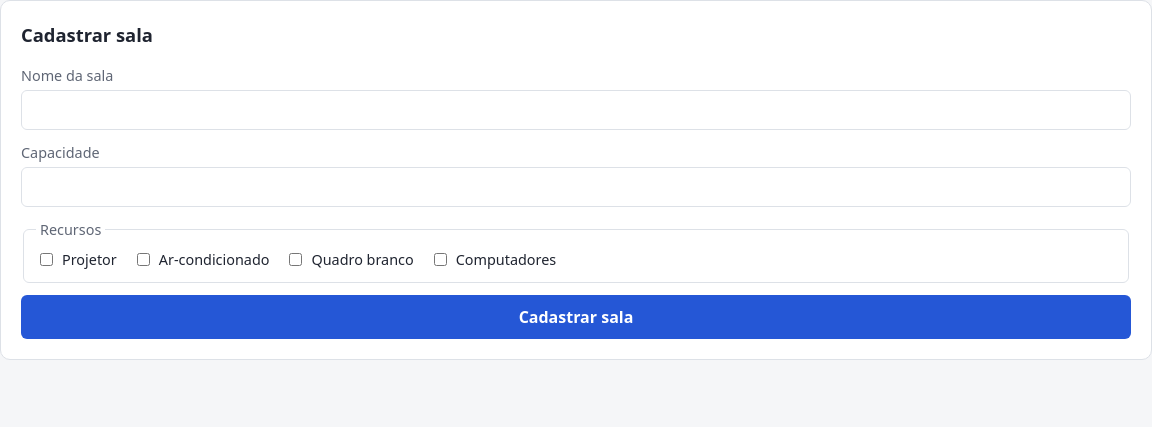
Test: RoomForm › exibe uma mensagem genérica quando ocorre um erro inesperado
The image size is (1152, 427).
Click the button "Cadastrar sala".
click(576, 317)  # box x1=21 y1=295 x2=1131 y2=339
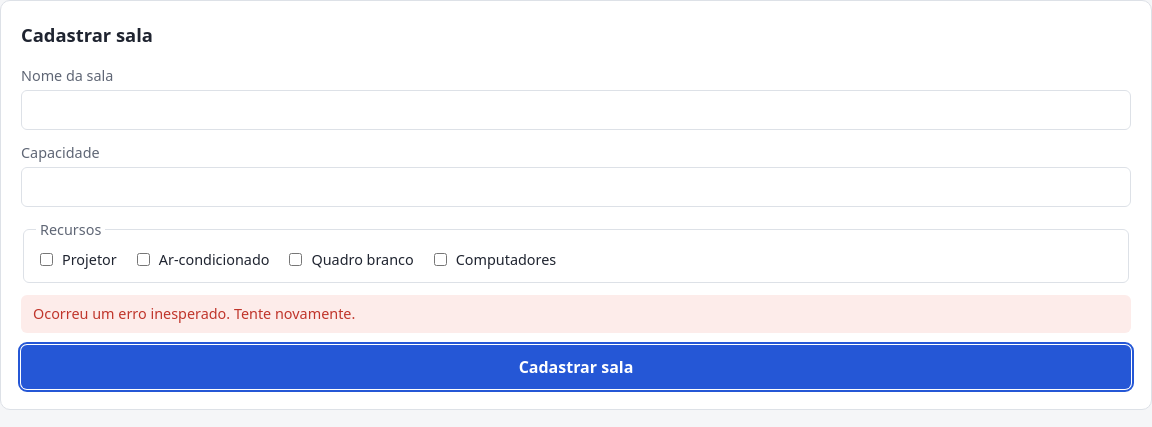
Check: the message reads "Ocorreu um erro inesperado. Tente novamente.", box x1=33 y1=304 x2=355 y2=323
